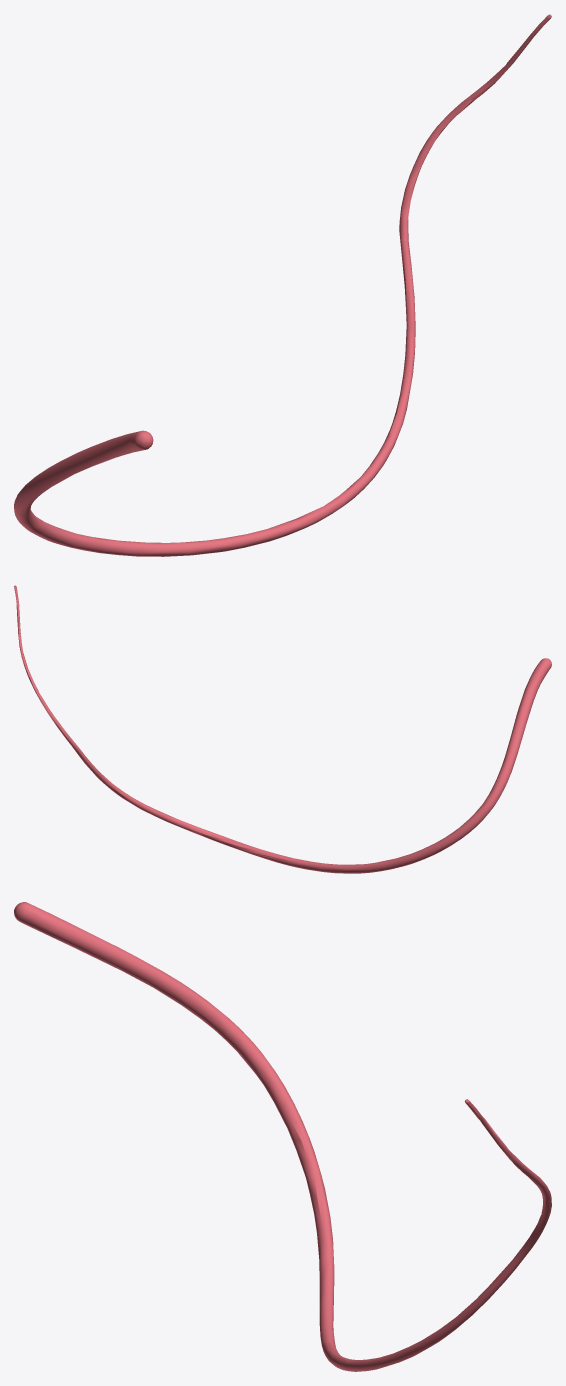
The model's file is fma71502_fj1719m.glb.
The picture shows the model from 3 angles, top to bottom: view 1: azimuth 30°, elevation 25°; view 2: azimuth 150°, elevation 25°; view 3: azimuth 270°, elevation 25°; orthographic projection. The views are drawn at different scales.
Visible parts, largest first — view 1: FMA71502_FJ1719M; view 2: FMA71502_FJ1719M; view 3: FMA71502_FJ1719M.
Part boxes in pixels (x1,y1,x2,y2): FMA71502_FJ1719M: (14, 14, 551, 556); FMA71502_FJ1719M: (14, 585, 551, 873); FMA71502_FJ1719M: (14, 902, 551, 1371).
Size of the model in its own units: 0.0447 by 0.0261 by 0.0302.
